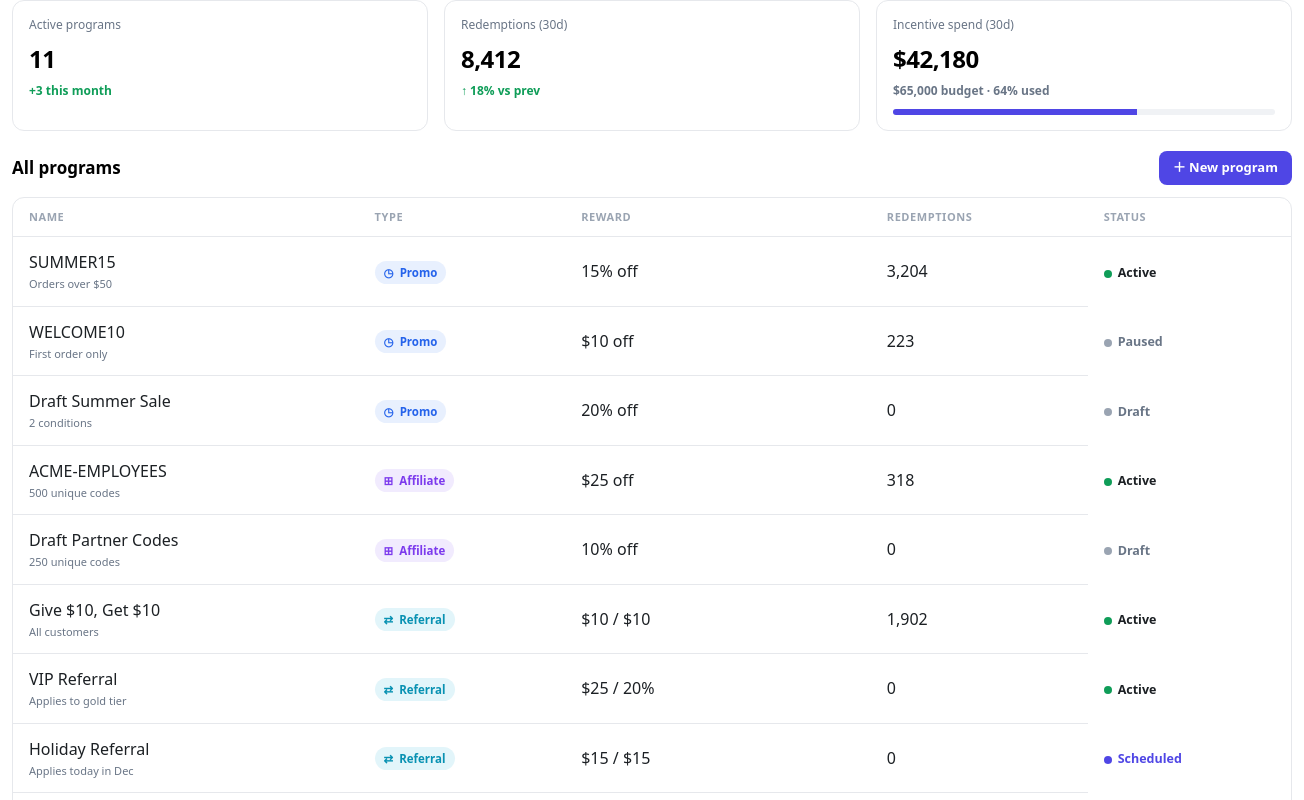
"＋ New program" opens a type chooser with all four program types
The image size is (1304, 800).
Click the button "＋ New program": [1225, 168] box [1159, 151, 1292, 184]
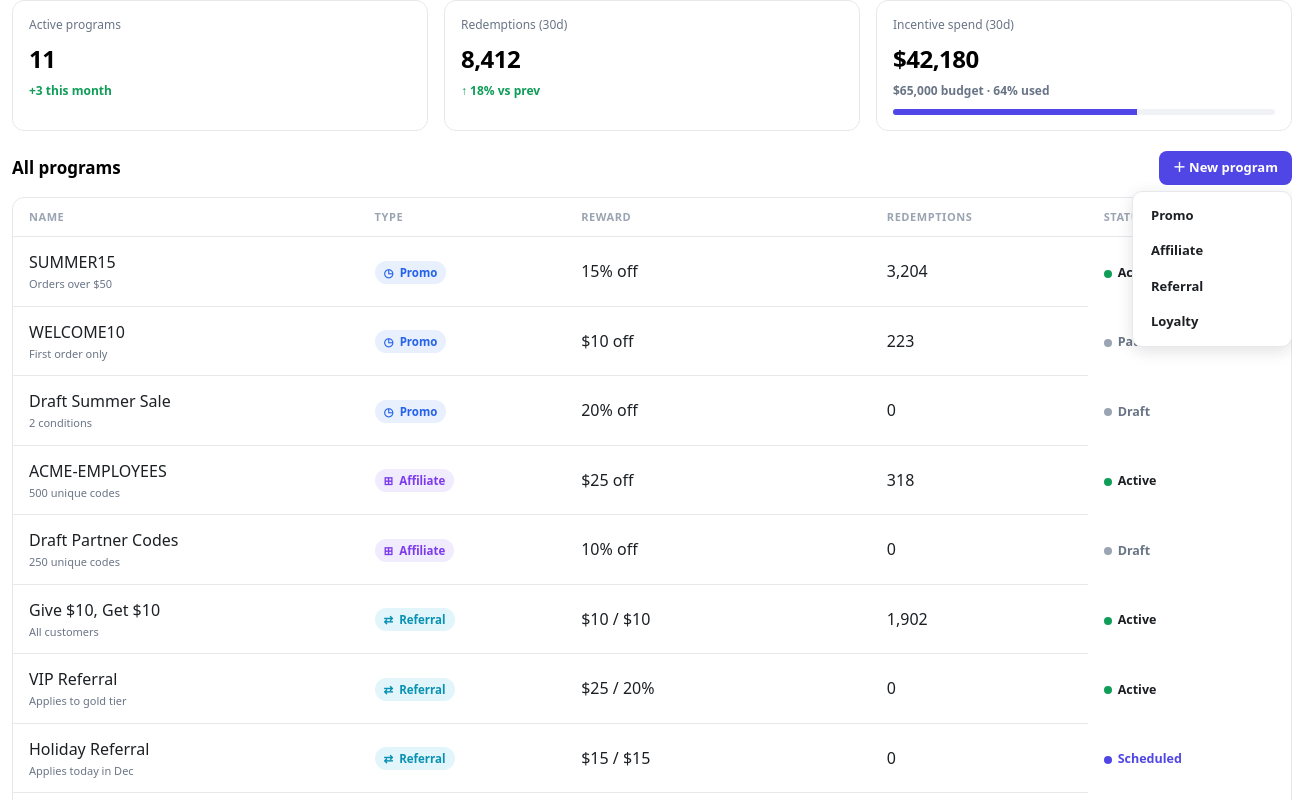
Now the menu item "Promo" is shown, box [1139, 198, 1285, 233]
Now the menu item "Affiliate" is shown, box [1139, 233, 1285, 268]
Now the menu item "Referral" is shown, box [1139, 268, 1285, 304]
